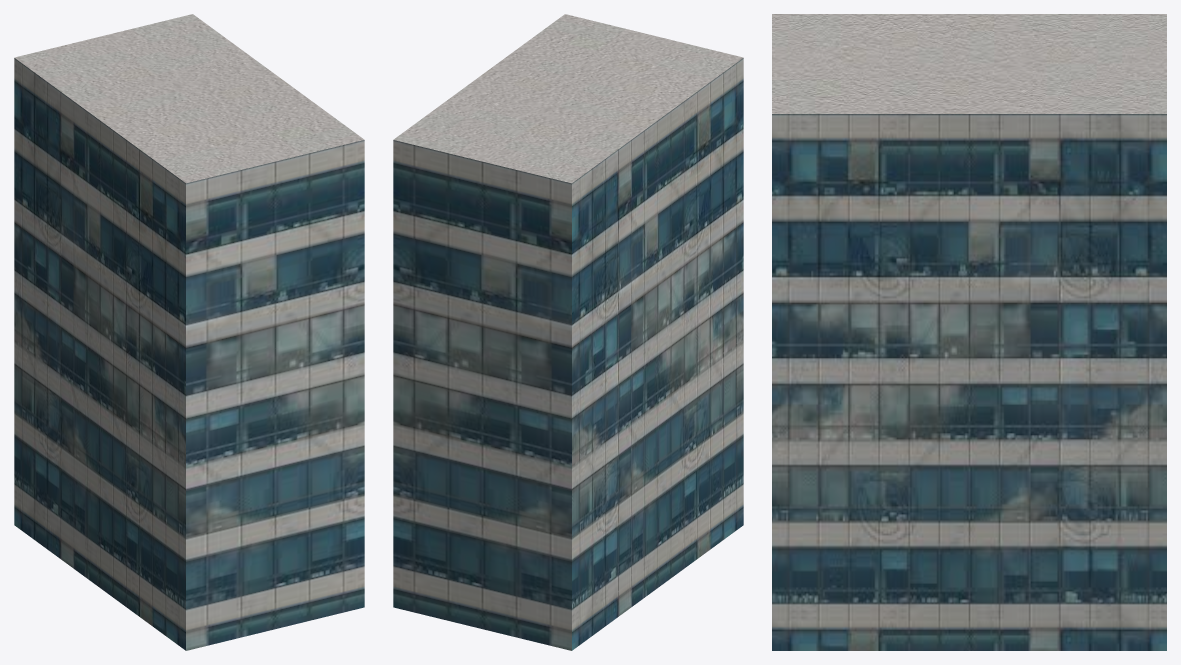
The model's file is building_036.glb.
3 views of the same model, side by side, from view 1: azimuth 30°, elevation 25°; view 2: azimuth 150°, elevation 25°; view 3: azimuth 270°, elevation 25° (orthographic). The views are drawn at different scales.
Parts seen in each view (by area): view 1: building_036; view 2: building_036; view 3: building_036.
Part boxes in pixels (x1,y1,x2,y2): building_036: (14,14,364,650); building_036: (393,14,743,650); building_036: (772,14,1166,650).
Bounding box in the file's own units: 600 × 1500 × 1000.
Materials: 2 (2 with a texture image).
